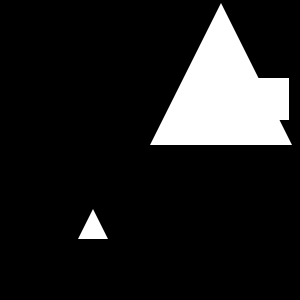circle: (247, 78, 289, 120)
triangle: (150, 3, 292, 145), (78, 209, 108, 239)
